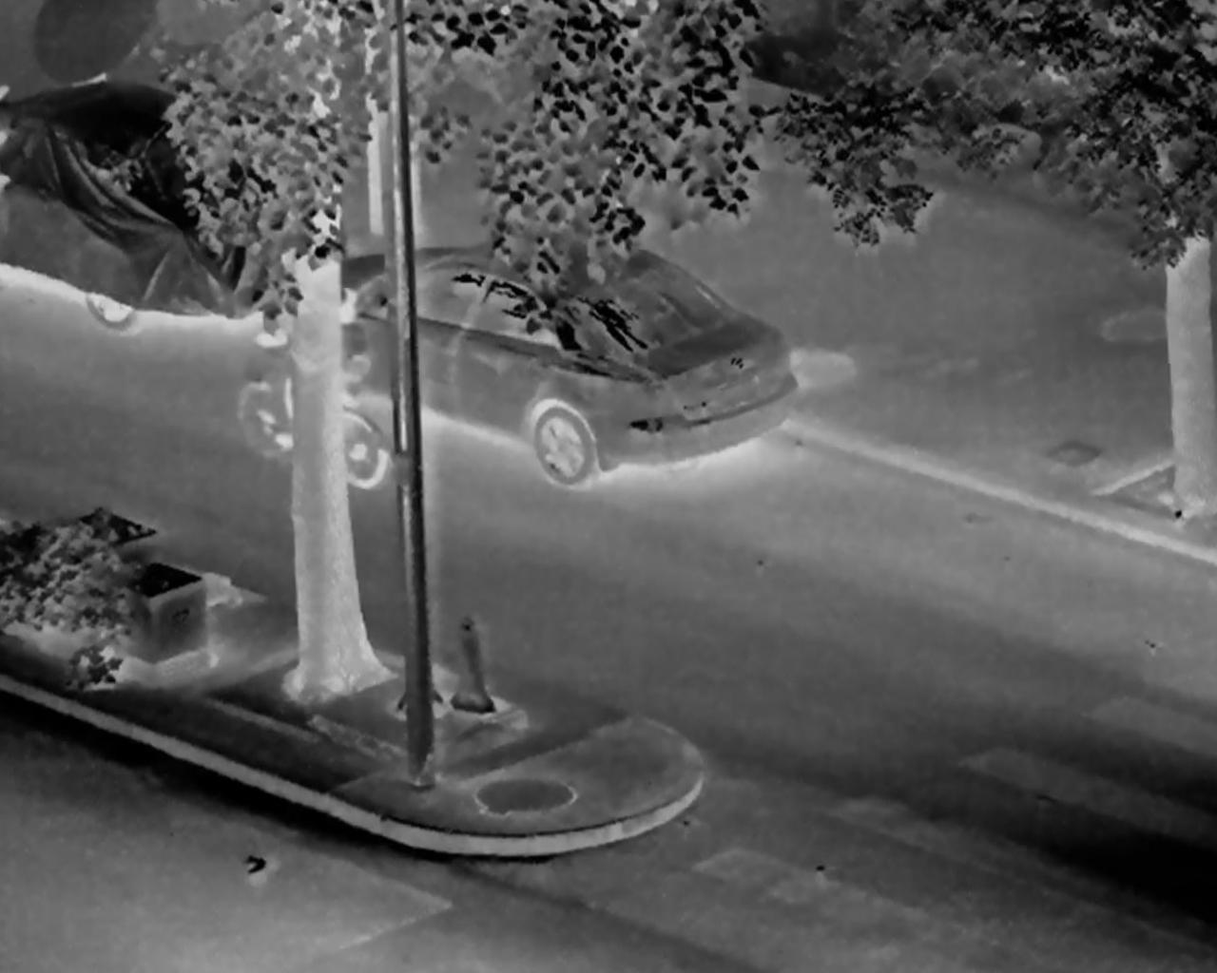person: (256, 266, 356, 456)
